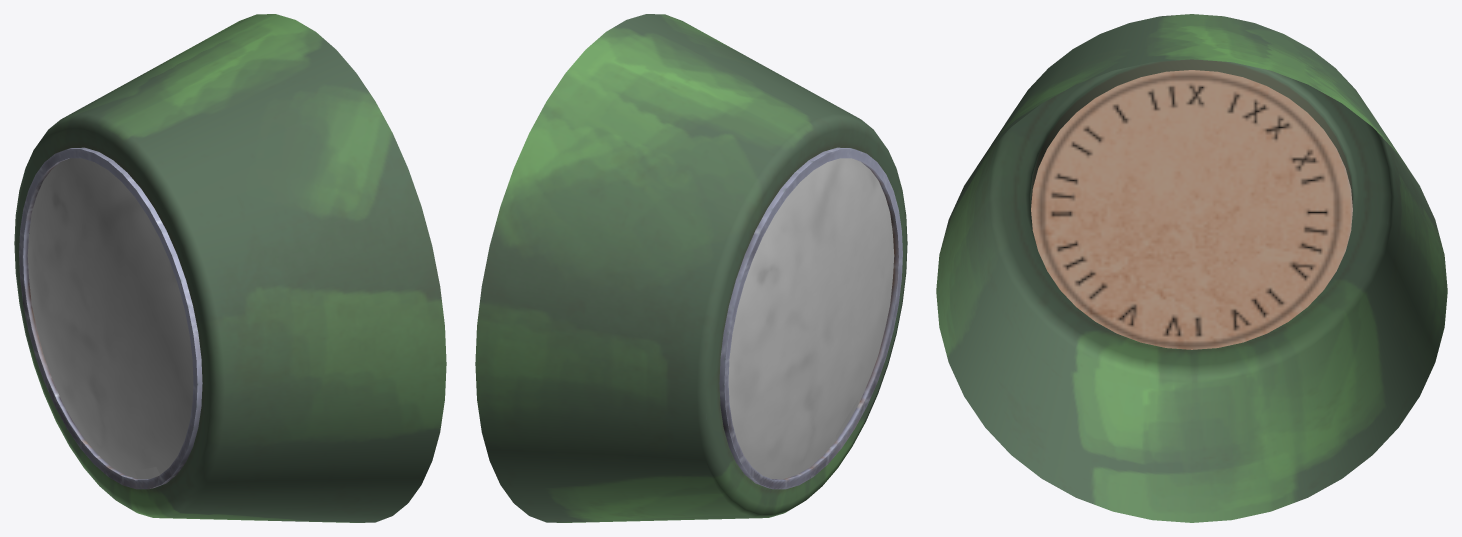
Rendered from SM_Clock.fbx.
The picture shows the model from 3 angles, left to right: view 1: azimuth 30°, elevation 25°; view 2: azimuth 150°, elevation 25°; view 3: azimuth 270°, elevation 25°; orthographic projection. The views are drawn at different scales.
Visible parts, largest first — view 1: SM_Clock_LOD0; view 2: SM_Clock_LOD0; view 3: SM_Clock_LOD0.
Boxes of the visible parts, x1,y1,x2,y2 form: SM_Clock_LOD0: (14,14,446,522); SM_Clock_LOD0: (475,14,907,522); SM_Clock_LOD0: (936,14,1447,522).
Bounding box in the file's own units: 21.55 × 45.33 × 45.33.
2 materials, 2 textured.
